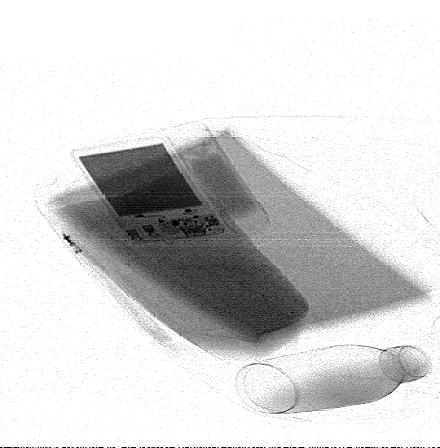Powerbank: (67, 135, 227, 245)
